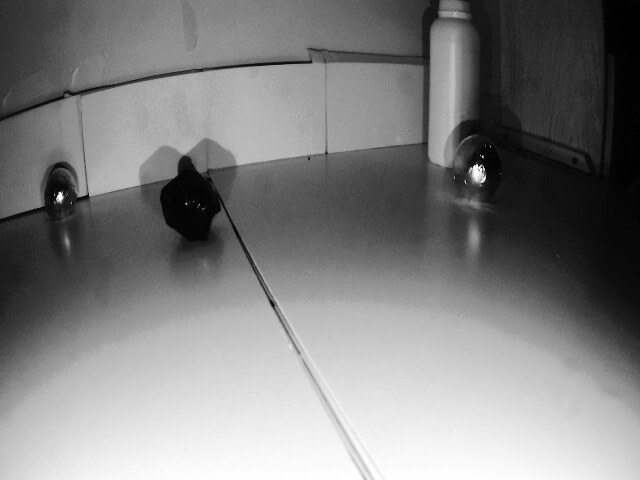black: (451, 132, 510, 206), (39, 168, 84, 222)
silver: (161, 166, 225, 236)
